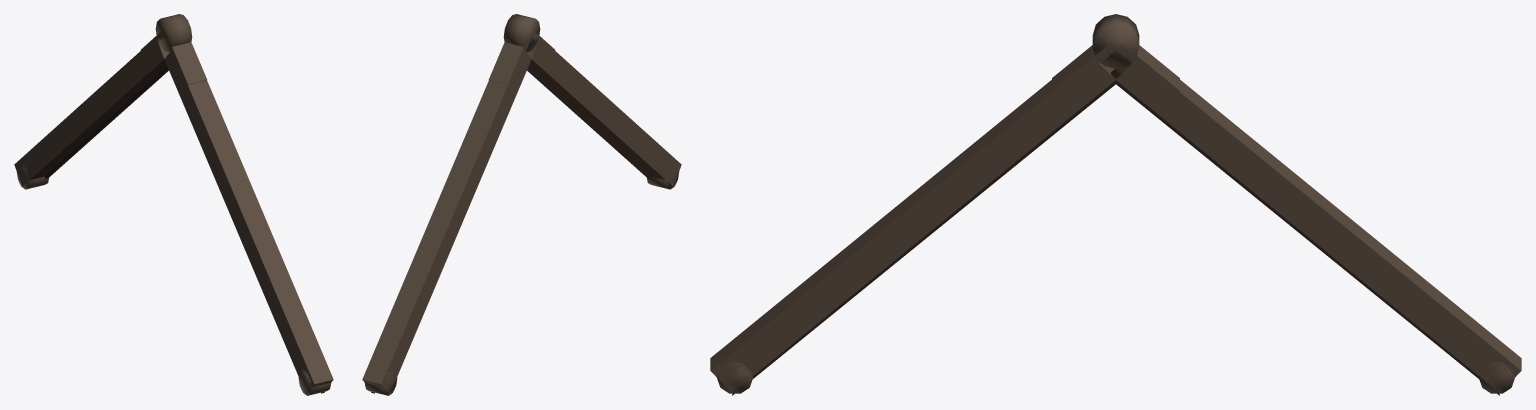
The model's file is kit_timber_thatch_w5_end.glb.
The picture shows the model from 3 angles, left to right: view 1: azimuth 30°, elevation 25°; view 2: azimuth 150°, elevation 25°; view 3: azimuth 270°, elevation 25°; orthographic projection. The views are drawn at different scales.
Visible parts, largest first — view 1: kit_timber_thatch_w5_end; view 2: kit_timber_thatch_w5_end; view 3: kit_timber_thatch_w5_end.
Part boxes in pixels (x1,y1,x2,y2): kit_timber_thatch_w5_end: [14, 14, 333, 395]; kit_timber_thatch_w5_end: [362, 14, 681, 395]; kit_timber_thatch_w5_end: [710, 14, 1521, 395].
Bounding box in the file's own units: 0.22 × 2.98 × 5.92.
